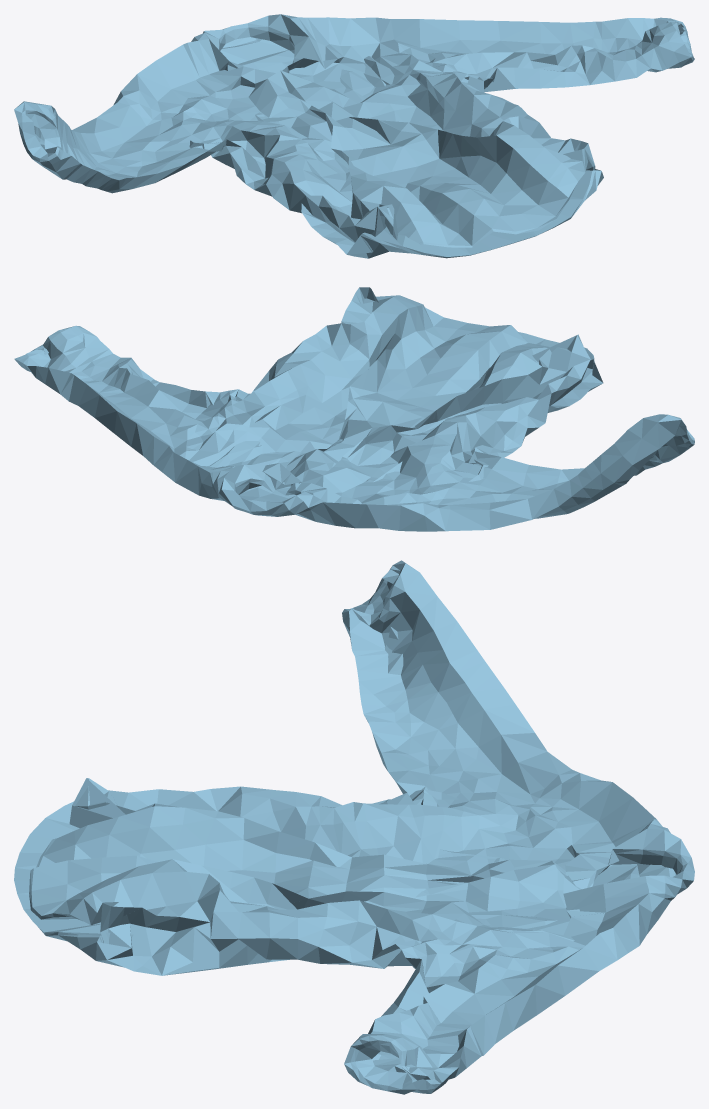
File: frame_02.glb
The picture shows the model from 3 angles, top to bottom: view 1: azimuth 30°, elevation 25°; view 2: azimuth 150°, elevation 25°; view 3: azimuth 270°, elevation 25°; orthographic projection. The views are drawn at different scales.
Parts seen in each view (by area): view 1: frame_02.obj; view 2: frame_02.obj; view 3: frame_02.obj.
Part boxes in pixels (x1=…): frame_02.obj: x1=14, y1=14, x2=694, y2=258; frame_02.obj: x1=14, y1=287, x2=694, y2=531; frame_02.obj: x1=14, y1=560, x2=694, y2=1094.
Bounding box in the file's own units: 1.97 × 0.3501 × 1.38.
